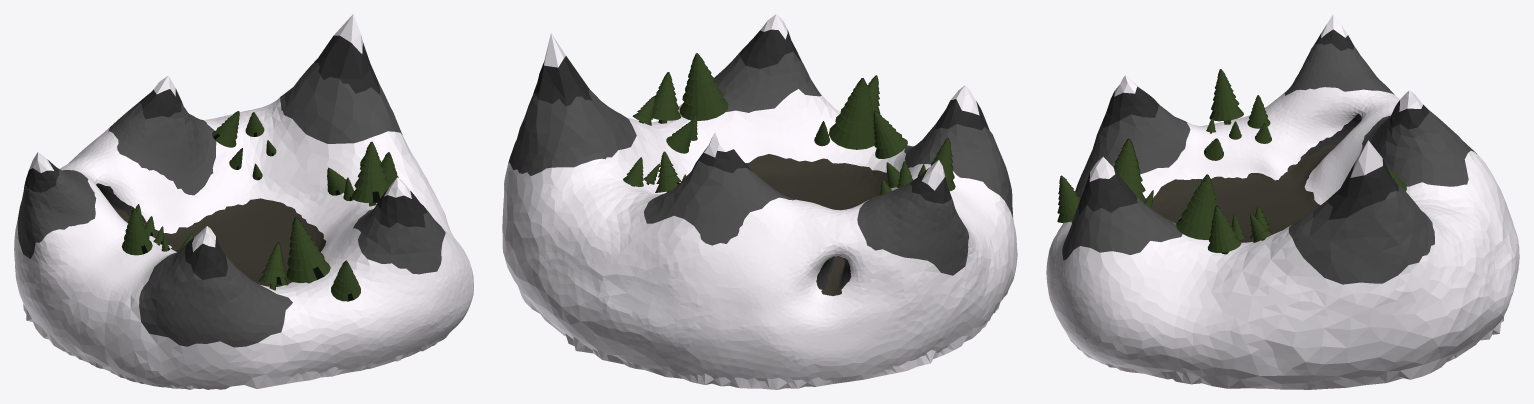
File: Avalanche_Enviroment3.fbx
The picture shows the model from 3 angles, left to right: view 1: azimuth 30°, elevation 25°; view 2: azimuth 150°, elevation 25°; view 3: azimuth 270°, elevation 25°; orthographic projection. The views are drawn at different scales.
Visible parts, largest first — view 1: Icosphere.004, Icosphere.009, Icosphere.008, Icosphere.007, Cube.001, Icosphere.006, Cube.012, Cube.005, Cube.004, Cube.002, Cube.016, Cube.013; view 2: Icosphere.004, Icosphere.009, Icosphere.008, Icosphere.007, Cube.001, Icosphere.006, Cube.012, Cube.002, Cube.011, Cube.016, Cube.005, Cube.013; view 3: Icosphere.004, Icosphere.009, Icosphere.007, Icosphere.008, Icosphere.006, Cube.012, Cube.005, Cube.001, Cube.011, Cube.004, Cube.006.
Part boxes in pixels (<box>): Icosphere.004: <box>14,97,473,389</box>; Icosphere.009: <box>17,62,445,347</box>; Icosphere.008: <box>25,35,427,279</box>; Icosphere.007: <box>114,198,326,286</box>; Cube.001: <box>286,217,330,283</box>; Icosphere.006: <box>29,14,411,251</box>; Cube.012: <box>351,141,389,206</box>; Cube.005: <box>121,208,152,255</box>; Cube.004: <box>331,260,360,301</box>; Cube.002: <box>258,242,288,290</box>; Cube.016: <box>212,111,239,147</box>; Cube.013: <box>327,167,346,195</box>; Icosphere.004: <box>502,89,1017,389</box>; Icosphere.009: <box>508,52,1012,351</box>; Icosphere.008: <box>533,29,989,289</box>; Icosphere.007: <box>745,154,888,295</box>; Cube.001: <box>828,78,875,149</box>; Icosphere.006: <box>544,14,979,190</box>; Cube.012: <box>679,53,728,120</box>; Cube.002: <box>873,111,907,158</box>; Cube.011: <box>652,72,681,123</box>; Cube.016: <box>655,151,681,192</box>; Cube.005: <box>930,138,955,190</box>; Cube.013: <box>666,121,692,153</box>; Icosphere.004: <box>1046,87,1519,389</box>; Icosphere.009: <box>1062,43,1476,284</box>; Icosphere.007: <box>1151,144,1337,242</box>; Icosphere.008: <box>1078,29,1428,219</box>; Icosphere.006: <box>1089,14,1422,181</box>; Cube.012: <box>1176,174,1217,239</box>; Cube.005: <box>1209,69,1243,124</box>; Cube.001: <box>1113,138,1145,202</box>; Cube.011: <box>1207,206,1241,254</box>; Cube.004: <box>1057,175,1079,222</box>; Cube.006: <box>1247,95,1270,128</box>.
Size of the model in its own units: 31879 by 17169 by 30831.
